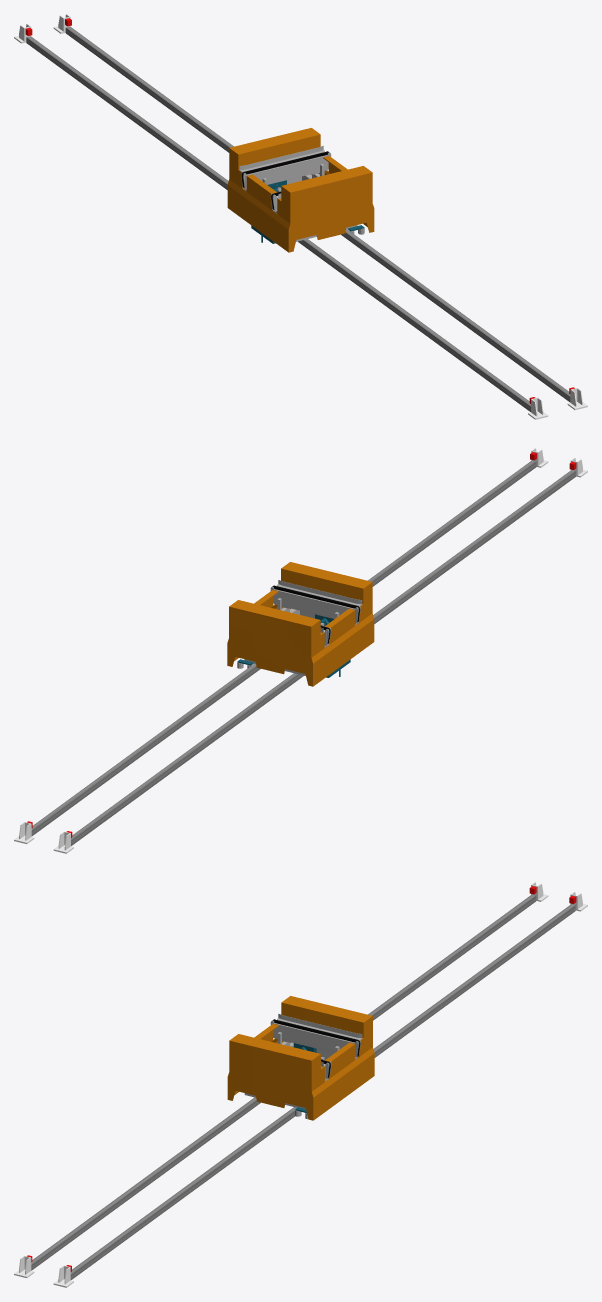
The model's file is RGV.glb.
The picture shows the model from 3 angles, top to bottom: view 1: azimuth 30°, elevation 25°; view 2: azimuth 150°, elevation 25°; view 3: azimuth 330°, elevation 25°; orthographic projection.
Visible parts, largest first — view 1: main, CSC-guidao, CSC-guidao.001; view 2: main, CSC-guidao, CSC-guidao.001; view 3: main, CSC-guidao.001, CSC-guidao.
Boxes of the visible parts, bbox=[...] form: main: bbox=[227, 128, 374, 252]; CSC-guidao: bbox=[26, 36, 530, 411]; CSC-guidao.001: bbox=[65, 26, 570, 402]; main: bbox=[227, 562, 374, 686]; CSC-guidao: bbox=[71, 470, 575, 845]; CSC-guidao.001: bbox=[31, 460, 536, 836]; main: bbox=[227, 996, 374, 1120]; CSC-guidao.001: bbox=[70, 904, 575, 1279]; CSC-guidao: bbox=[31, 894, 536, 1270].
Bounding box in the file's own units: 1 × 0.7938 × 10.31.
Materials: 3 (3 with a texture image).
